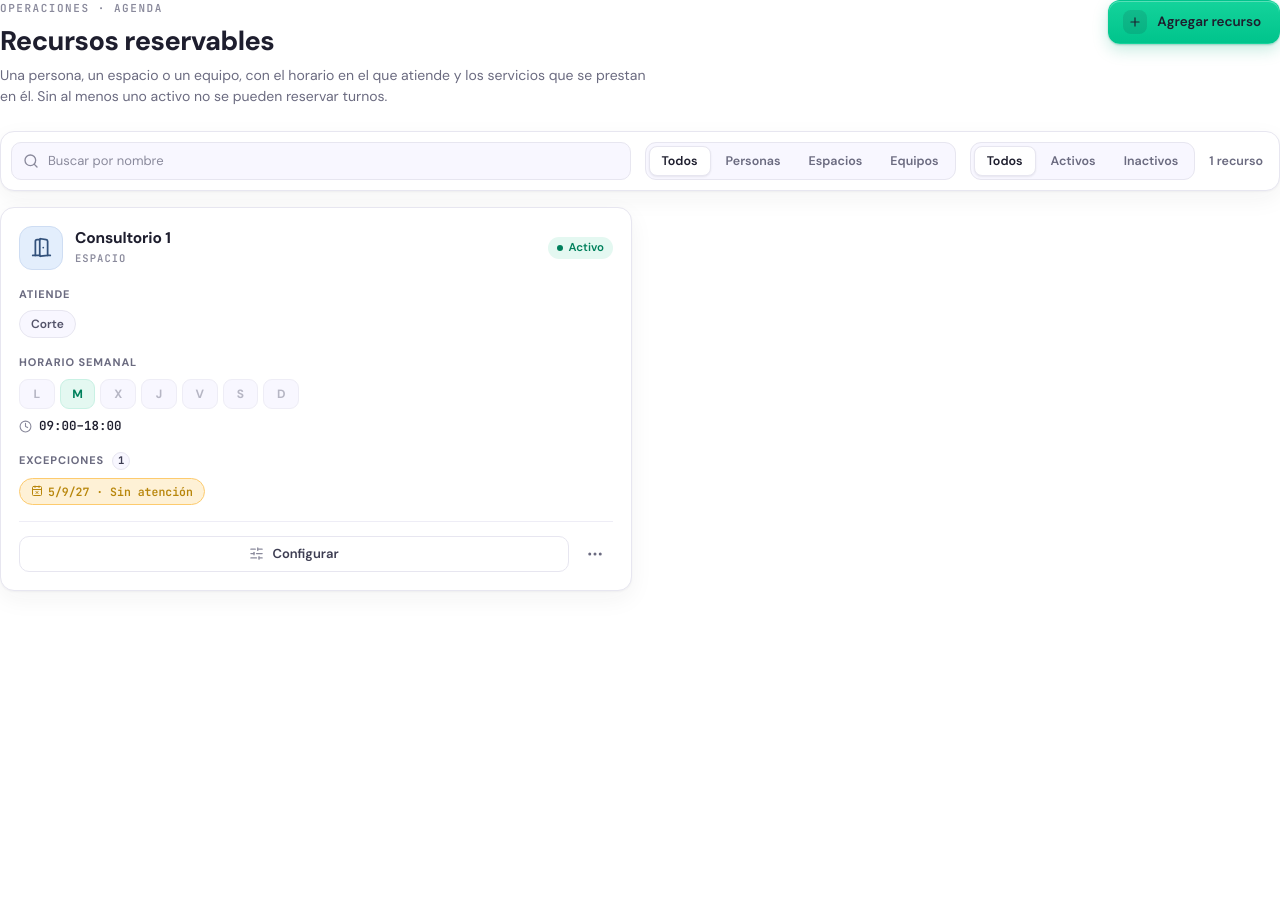
Scenario: PAN-AGE-03 › no deja quitar la ultima franja: un recurso sin horario no atiende nunca
The width and height of the screenshot is (1280, 900).
Click the button "Configurar". click: {"x": 294, "y": 554}
box: [19, 536, 569, 572]
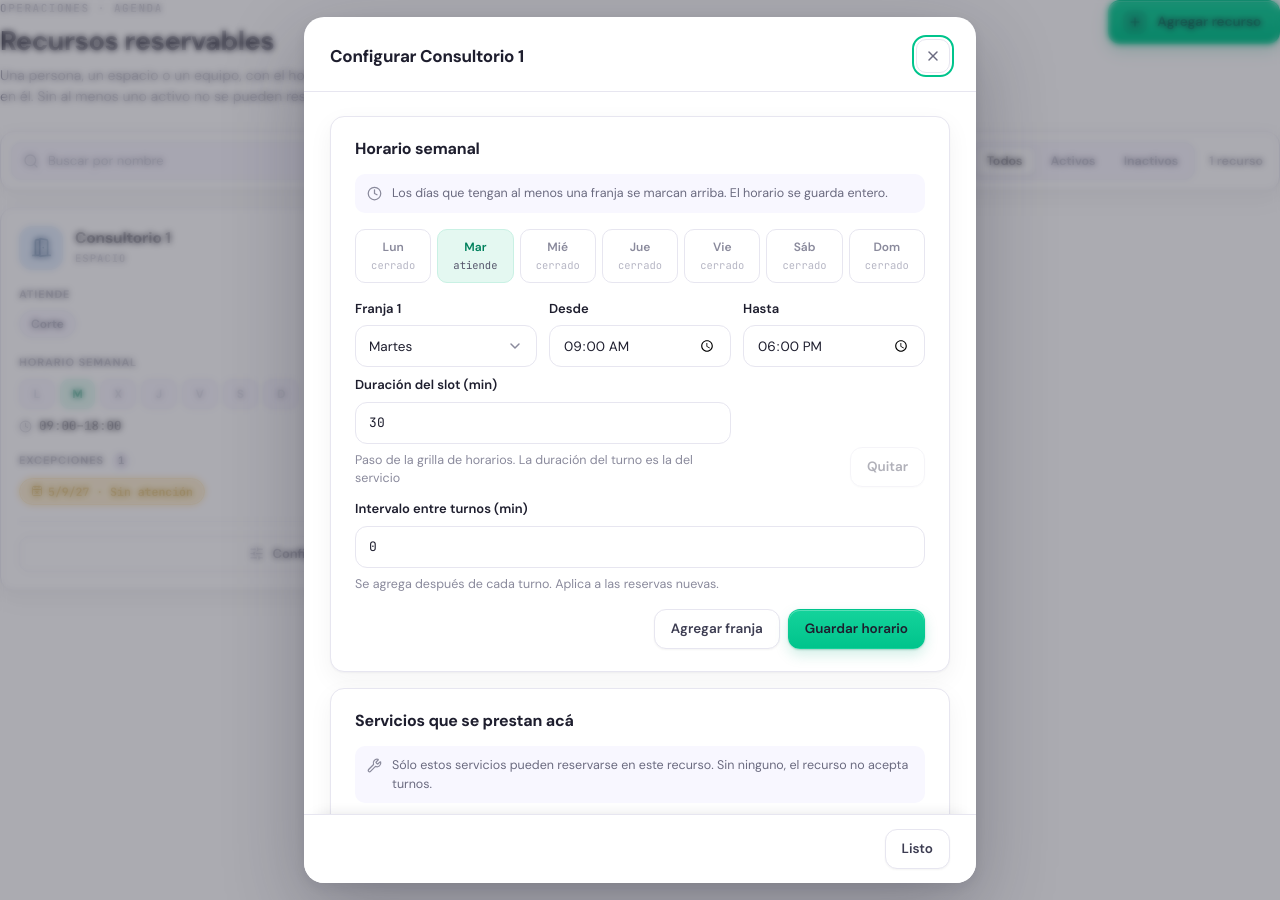
Result: the button "Quitar" is disabled at [850, 447, 925, 487]
